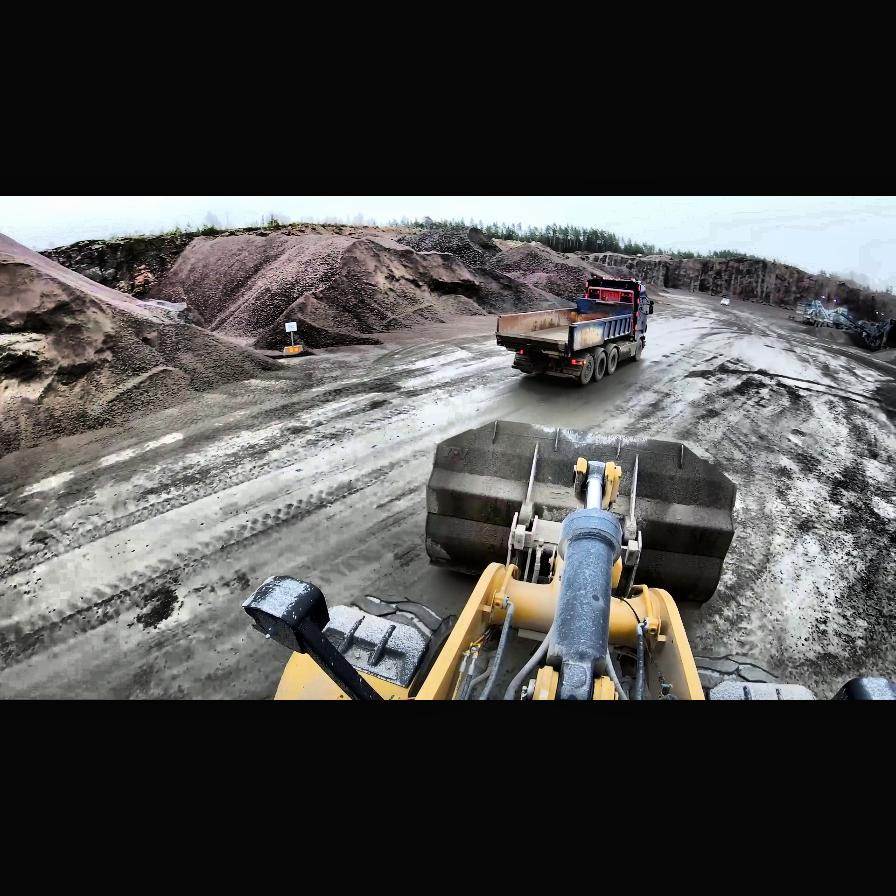anchor: (574, 458, 622, 512)
pile of gravel: (0, 220, 292, 470), (153, 224, 451, 352), (428, 227, 580, 315)
